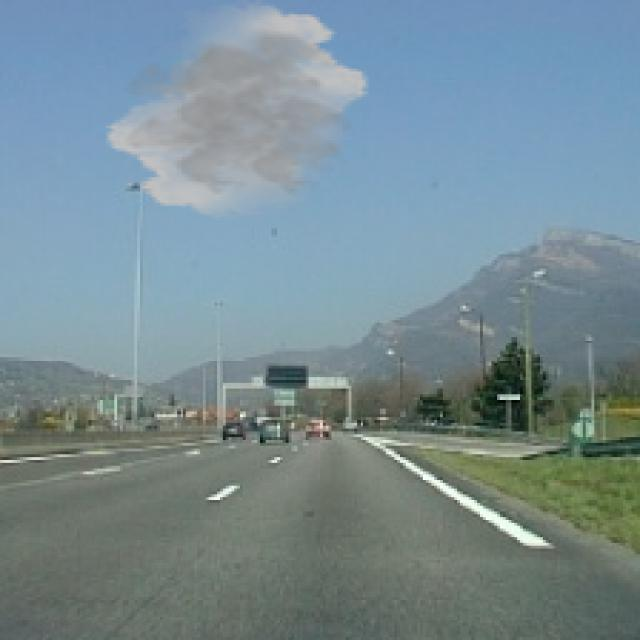smoke: (103, 0, 371, 220)
